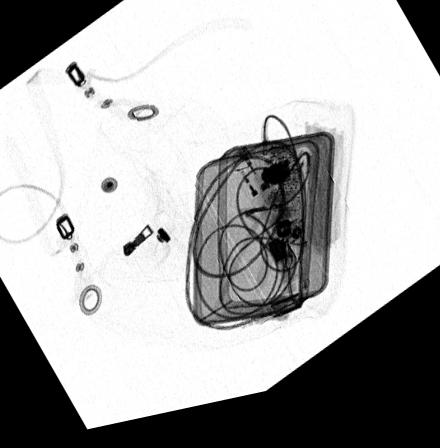Lighter: (229, 156, 285, 238)
